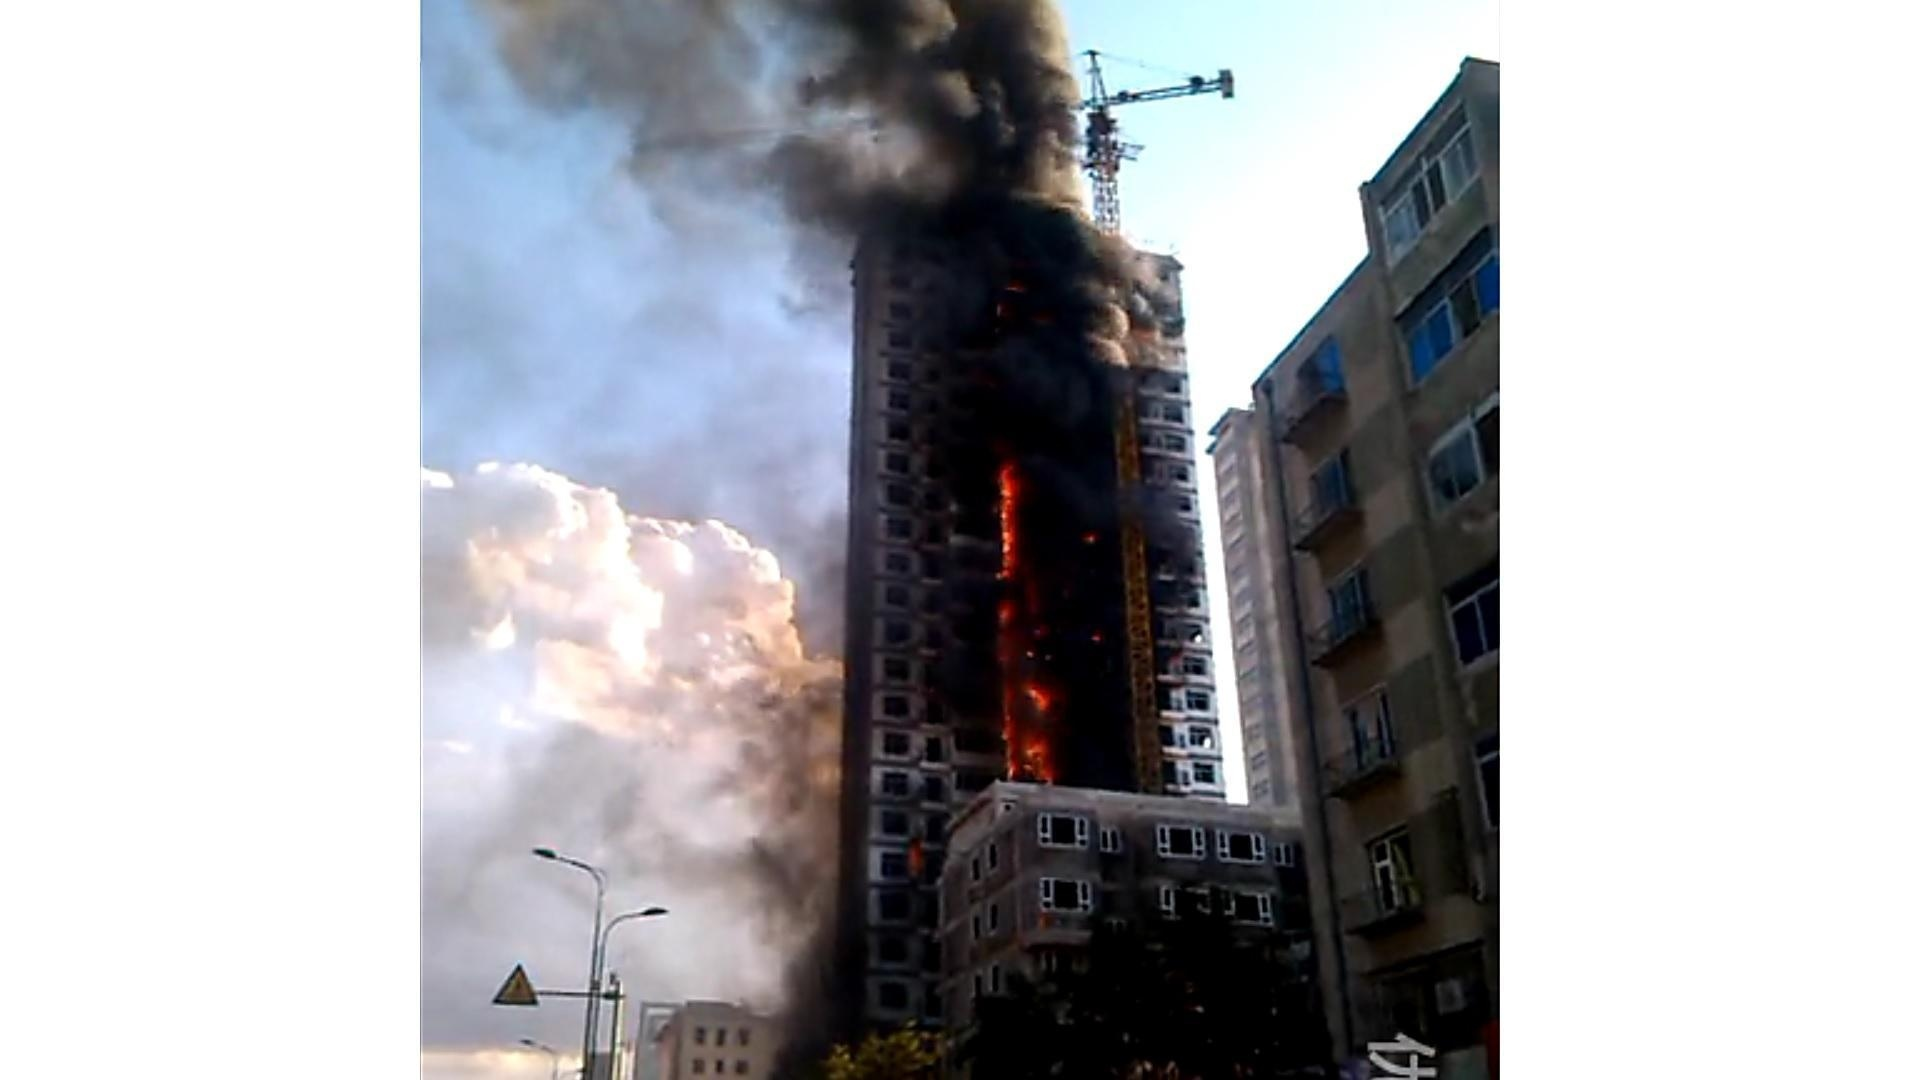fire: (982, 462, 1062, 790)
